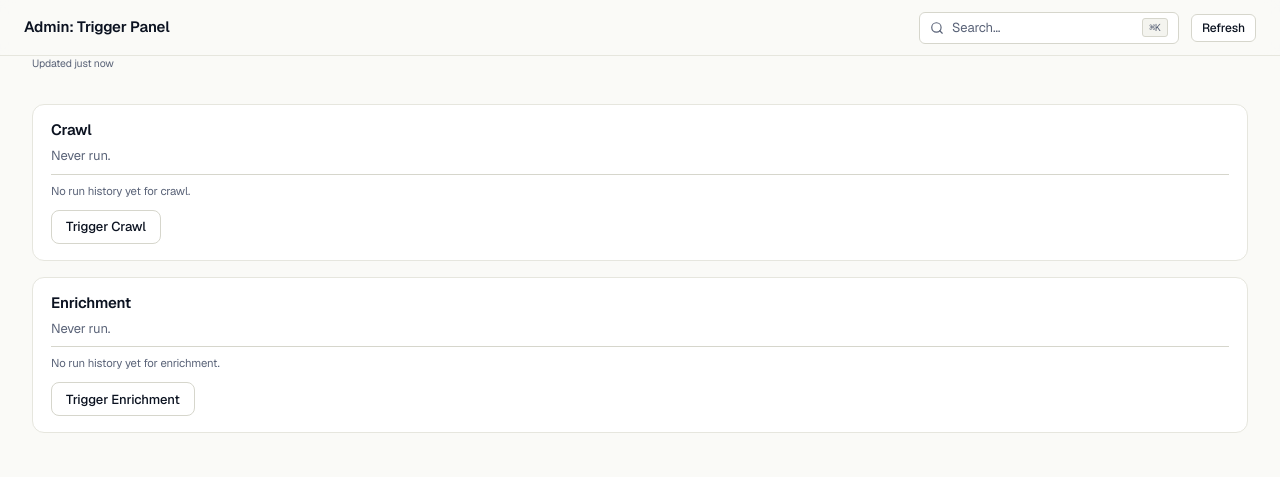
Test: FE-TST-01: success toast appears after a successful trigger › shows a success toast/notification with the success message
Click the button with test id "trigger-btn-crawl": (106, 227) [51,210,161,244]
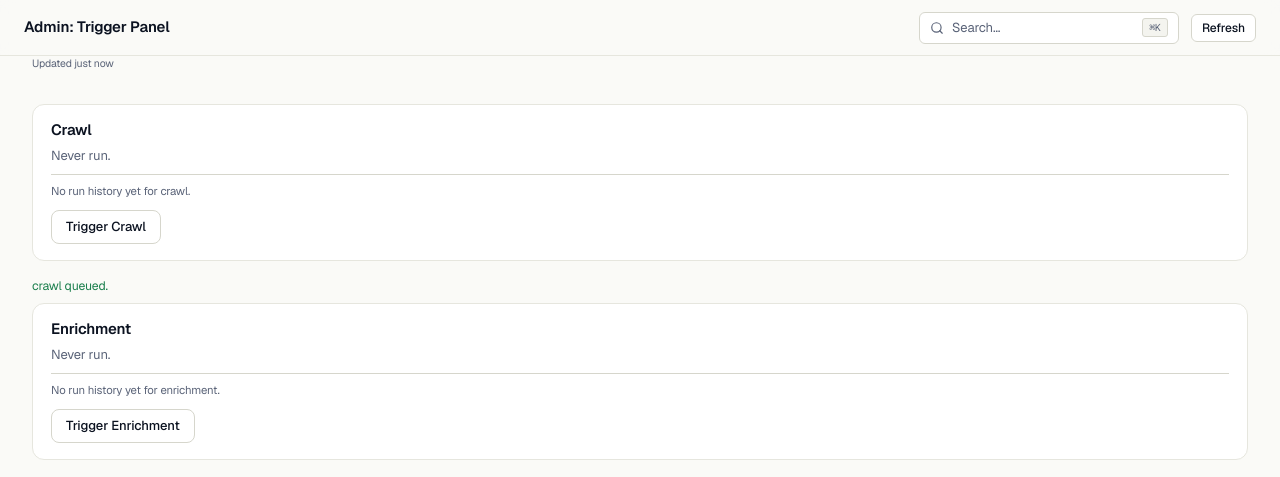
Expected: the message with test id "trigger-success-crawl" shows "queued", [32,278,108,294]
